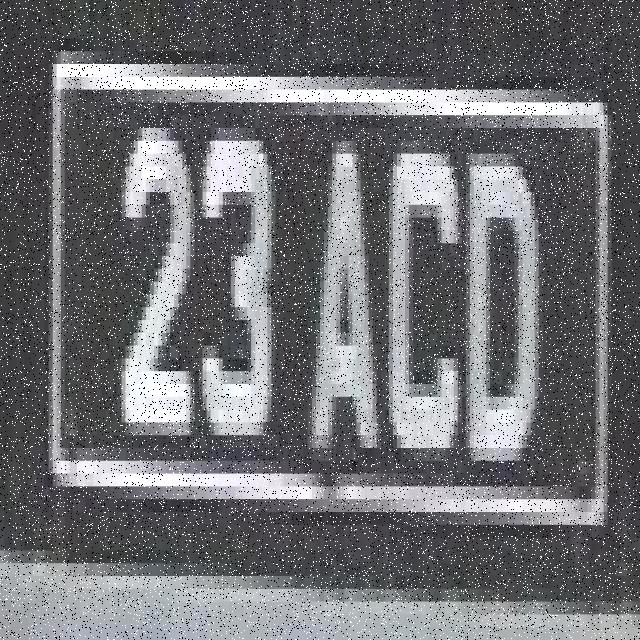licenseplate: (27, 30, 614, 608)
